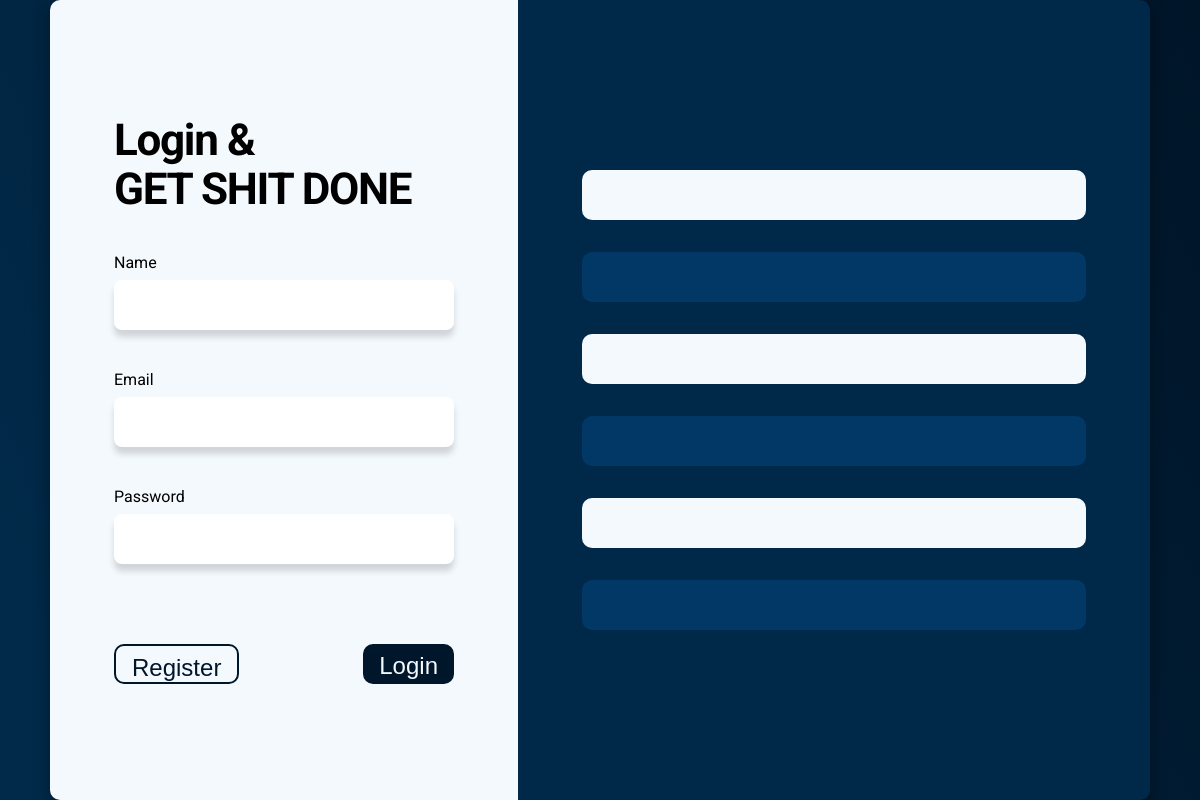
login › check login
Expected: the password field labelled "Password" is shown, top-left (114, 514), bottom-right (454, 564)
Expected: the button with class "login-btn" is shown, top-left (363, 644), bottom-right (454, 684)
Type "test@user.de" into the field with id "email" at [284, 422], box top-left (114, 397), bottom-right (454, 447)
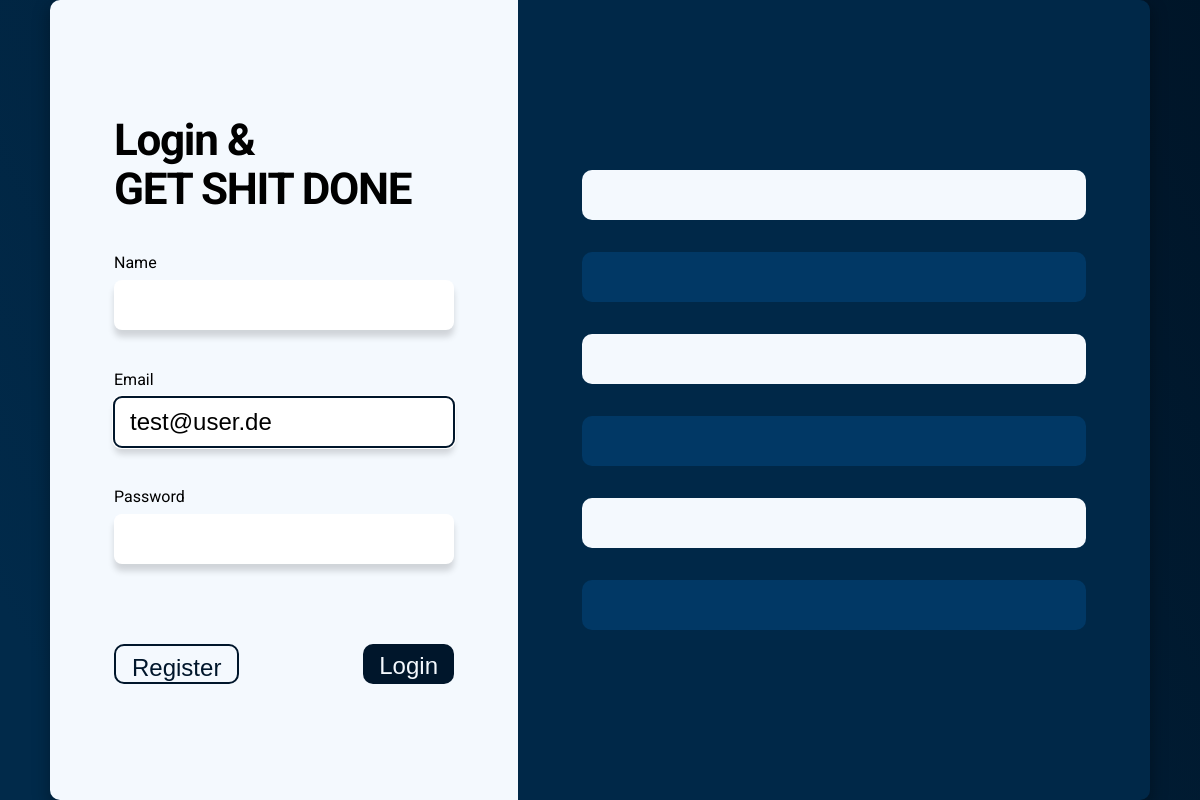
Type "123" into the password field labelled "Password" at [284, 539], box top-left (114, 514), bottom-right (454, 564)
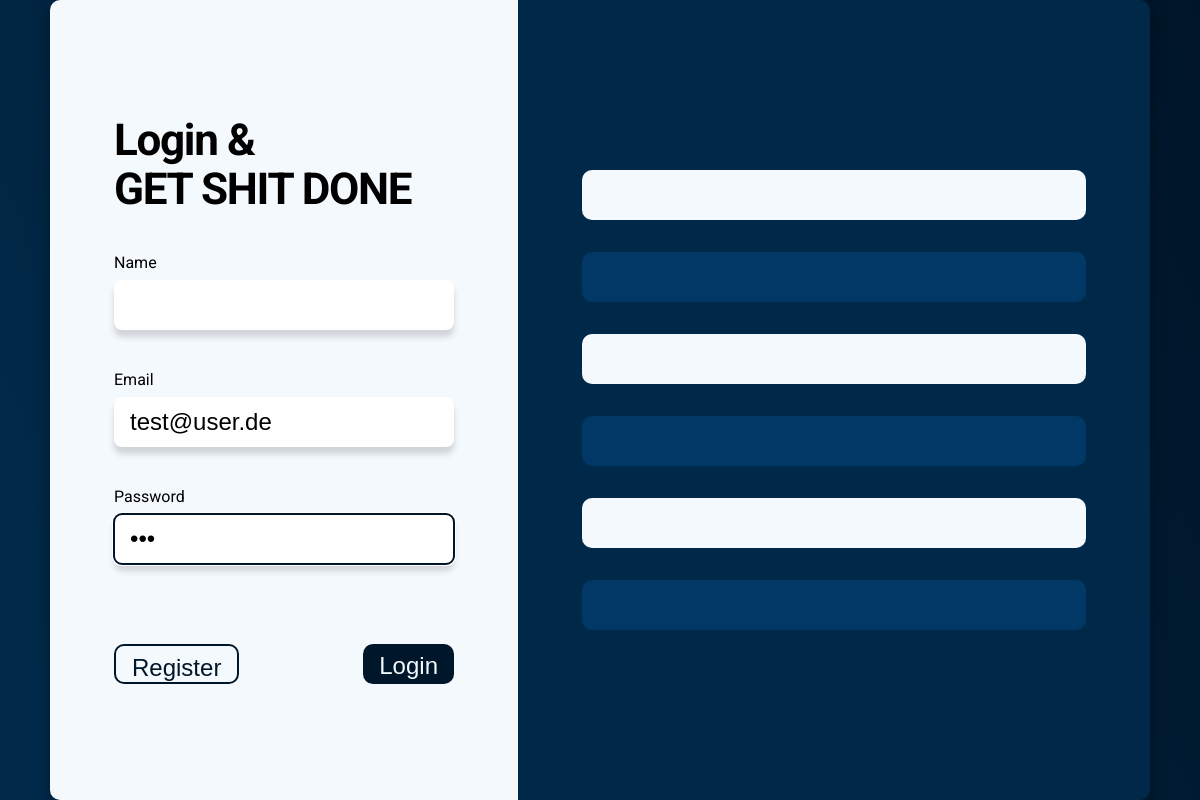
Click the button with class "login-btn" at [409, 664], box top-left (363, 644), bottom-right (454, 684)
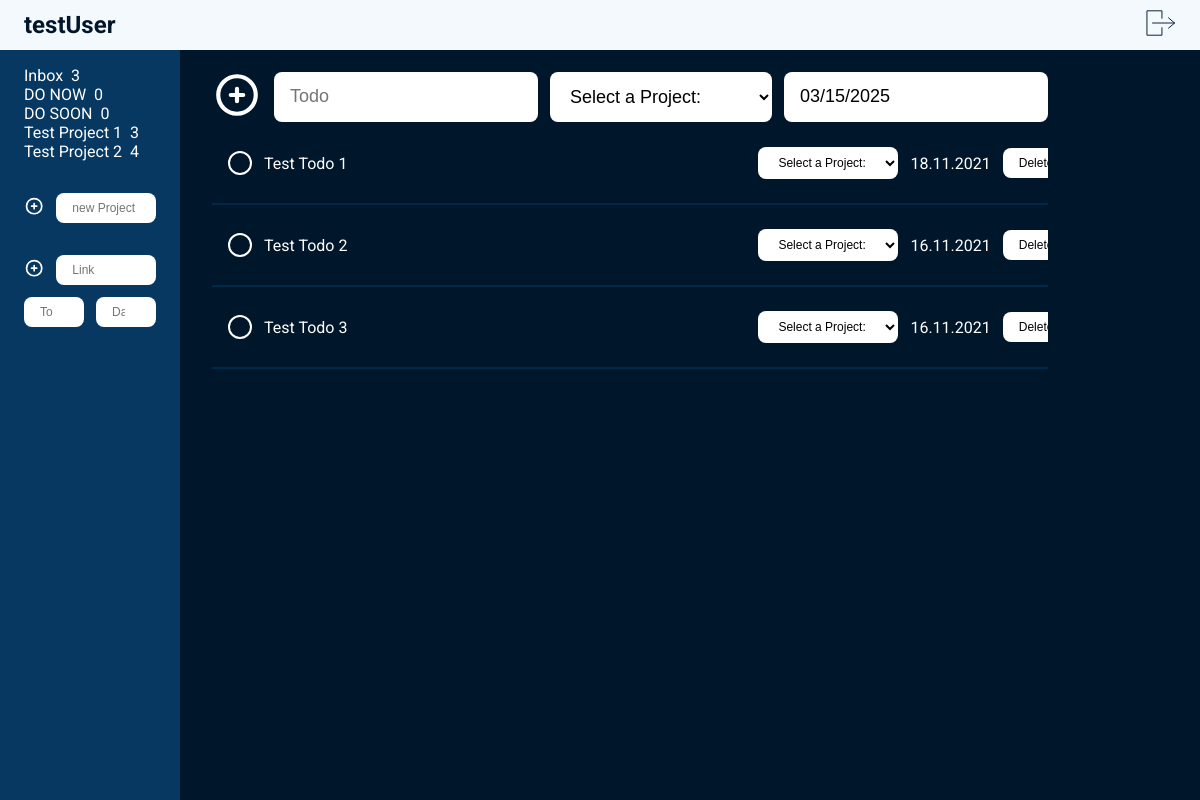
Now the button with class "login-btn" is gone
Now the 2nd element with test id "logout" is shown, box top-left (1146, 8), bottom-right (1176, 42)
